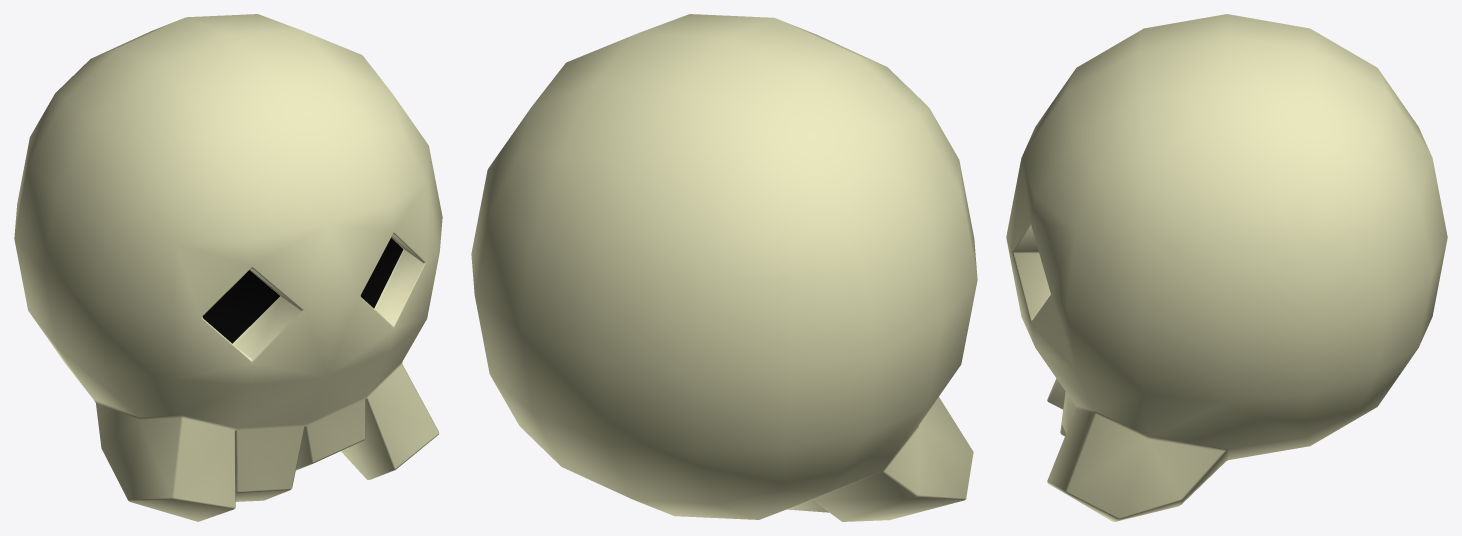
The model's file is Skull.fbx.
3 renders of one model, left to right at view 1: azimuth 30°, elevation 25°; view 2: azimuth 150°, elevation 25°; view 3: azimuth 270°, elevation 25°, orthographic. The views are drawn at different scales.
Visible parts, largest first — view 1: Skull; view 2: Skull; view 3: Skull.
Part boxes in pixels (x1,y1,x2,y2): Skull: (14,14,442,521); Skull: (471,14,977,521); Skull: (1006,14,1447,521).
Size of the model in its own units: 26.66 by 29.41 by 26.66.
